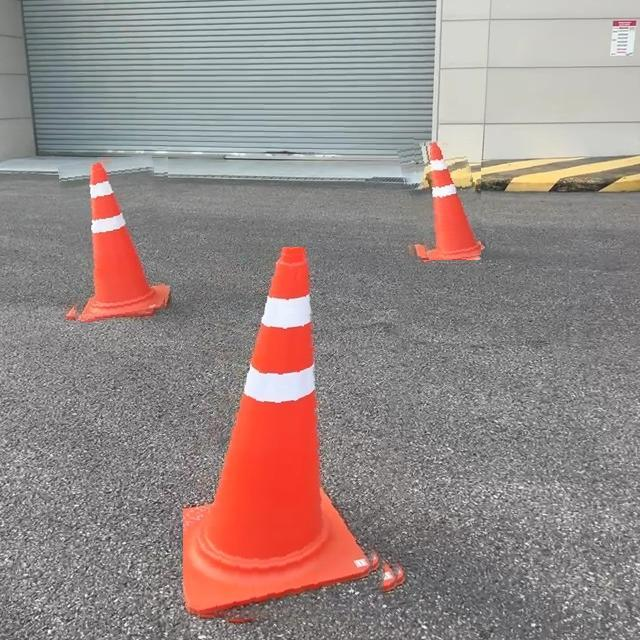fallen_object: (130, 230, 385, 601), (66, 146, 183, 336), (382, 143, 511, 279)
